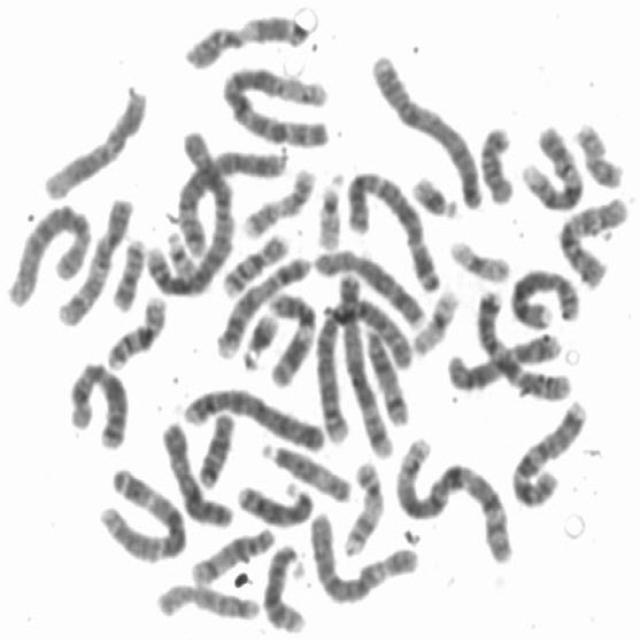A1: (391, 431, 516, 567), (216, 61, 333, 150)
A2: (142, 128, 238, 299), (314, 295, 414, 447)
A3: (340, 165, 442, 294), (94, 463, 190, 566)
B4: (365, 49, 485, 213), (178, 379, 326, 454)
B5: (176, 145, 288, 265), (328, 265, 396, 460)
C10: (51, 195, 136, 328), (553, 192, 633, 290)
C11: (180, 10, 310, 72), (263, 286, 318, 390)
C12: (36, 82, 152, 204), (442, 326, 562, 394)
C6: (307, 507, 419, 607), (4, 198, 94, 310)
C7: (471, 285, 572, 406), (506, 395, 590, 512)
C8: (309, 245, 426, 330), (507, 264, 581, 332)
C9: (211, 253, 314, 362), (517, 120, 587, 214)
D13: (258, 540, 308, 636), (233, 478, 315, 528)
D14: (188, 524, 277, 587), (360, 324, 410, 428)
D15: (255, 436, 353, 503), (150, 578, 262, 622)
E16: (101, 291, 168, 374), (217, 230, 290, 298)
E17: (239, 165, 317, 239), (339, 458, 386, 559)
E18: (193, 407, 237, 491), (476, 120, 517, 205)
F19: (409, 285, 461, 358), (445, 236, 511, 284)
F20: (569, 117, 626, 190), (108, 235, 147, 312)
G21: (406, 168, 462, 221), (238, 306, 281, 371)
G22: (312, 170, 346, 250), (162, 226, 200, 284)
X: (156, 415, 236, 530), (63, 355, 131, 454)
